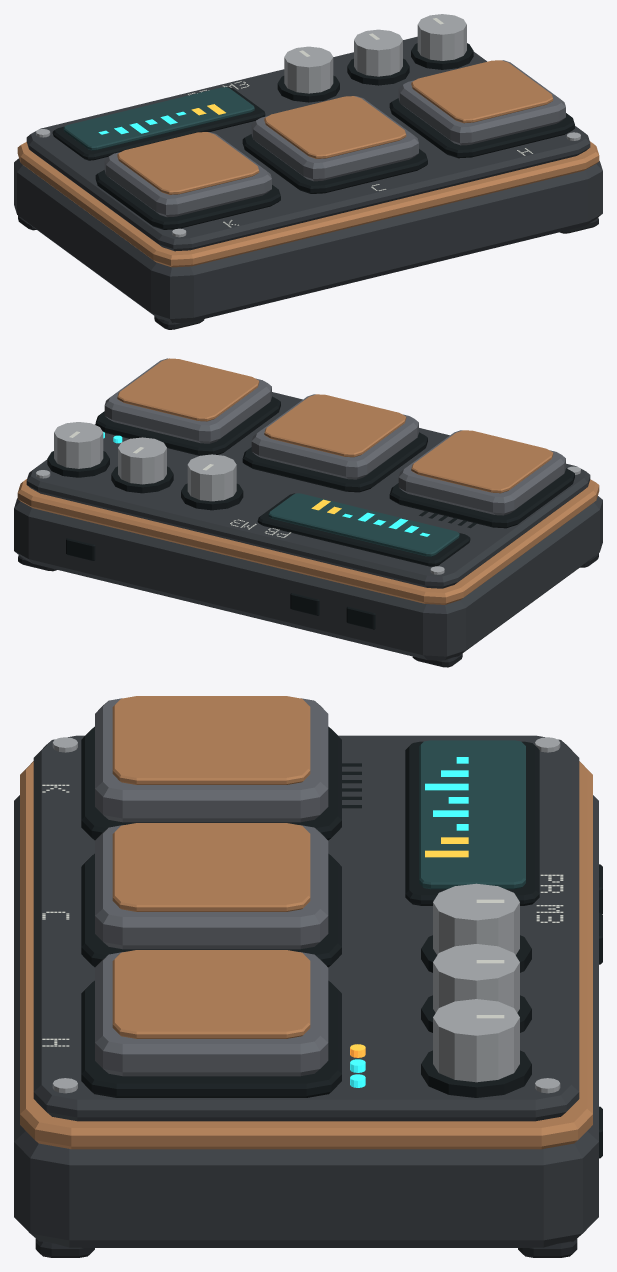
Rendered from pocketbeat_m3.glb.
3 views of the same model, one above another, from view 1: azimuth 30°, elevation 25°; view 2: azimuth 150°, elevation 25°; view 3: azimuth 270°, elevation 25° (orthographic). The views are drawn at different scales.
Parts seen in each view (by area): view 1: PocketBeat_M3; view 2: PocketBeat_M3; view 3: PocketBeat_M3.
Boxes of the visible parts, x1,y1,x2,y2 form: PocketBeat_M3: [14, 14, 602, 329]; PocketBeat_M3: [14, 358, 602, 667]; PocketBeat_M3: [14, 696, 602, 1257].
Bounding box in the file's own units: 0.232 × 0.0592 × 0.149.
